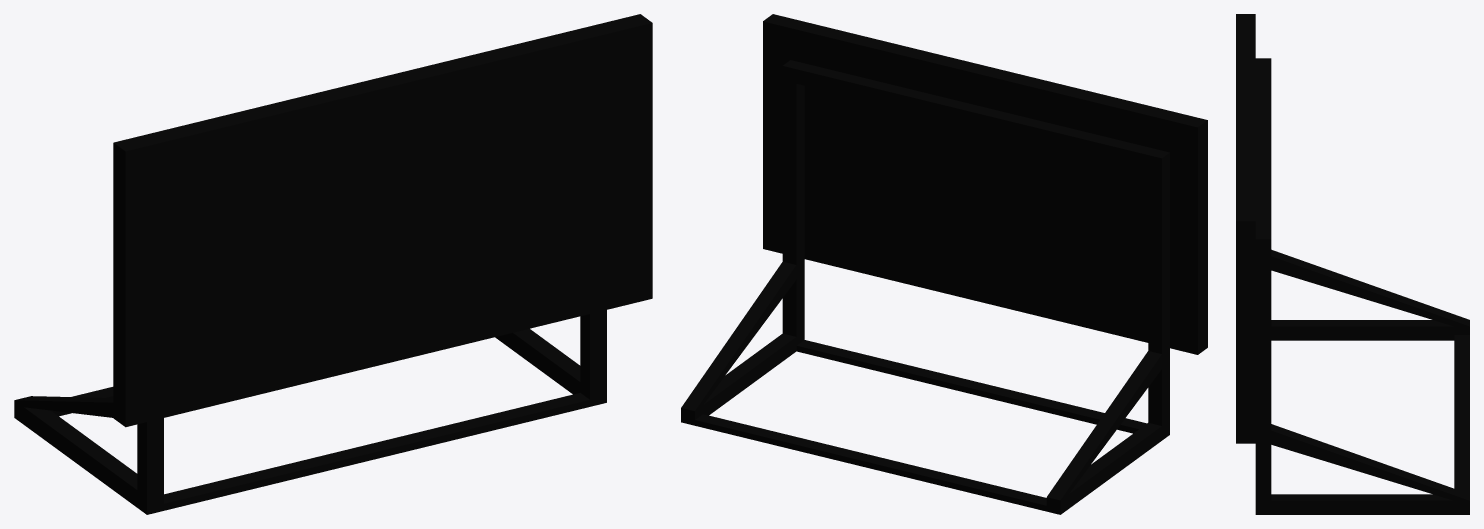
Rendered from billboardLow.glb.
3 renders of one model, left to right at view 1: azimuth 30°, elevation 25°; view 2: azimuth 150°, elevation 25°; view 3: azimuth 270°, elevation 25°, orthographic. The views are drawn at different scales.
Parts seen in each view (by area): view 1: Mesh noExport; view 2: Mesh noExport; view 3: Mesh noExport.
Part boxes in pixels (x1,y1,x2,y2): Mesh noExport: [14, 14, 652, 514]; Mesh noExport: [681, 14, 1207, 514]; Mesh noExport: [1236, 14, 1469, 514].
Size of the model in its own units: 1 by 0.69 by 0.4762.
Materials: 1 (1 with a texture image).
